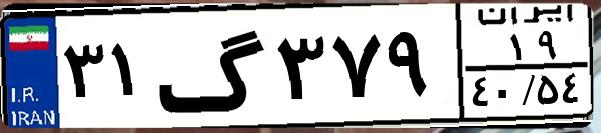0: (495, 70, 520, 125)
1: (110, 28, 156, 98), (508, 27, 537, 80)
3: (270, 28, 330, 110), (57, 26, 110, 100)
4: (560, 70, 590, 125), (470, 70, 495, 125)
5: (535, 70, 560, 125)
7: (330, 28, 385, 110)
9: (385, 28, 445, 110), (537, 27, 568, 80)
گ: (156, 12, 270, 120)
